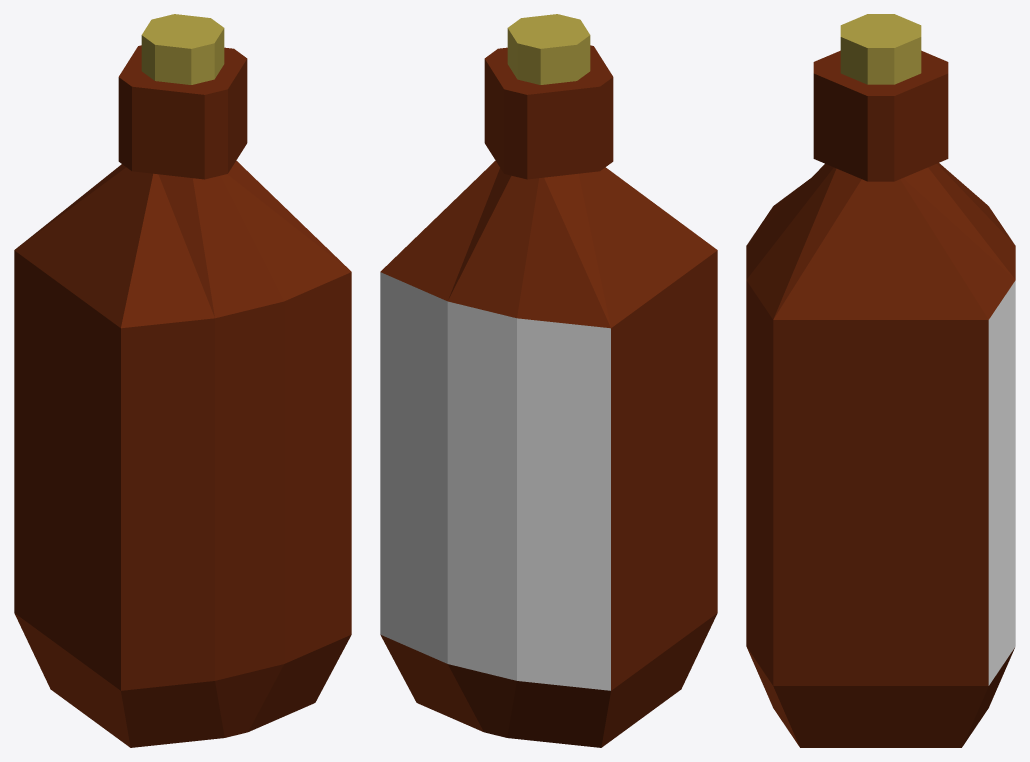
The model's file is inv_whisky.obj.
3 renders of one model, left to right at view 1: azimuth 30°, elevation 25°; view 2: azimuth 150°, elevation 25°; view 3: azimuth 270°, elevation 25°, orthographic.
Size of the model in its own units: 0.1562 by 0.4297 by 0.1562.
